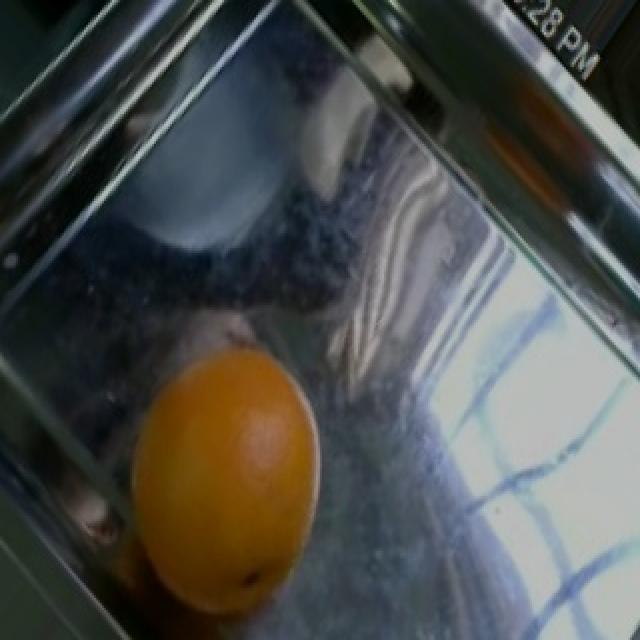Fruit: (100, 315, 344, 638)
